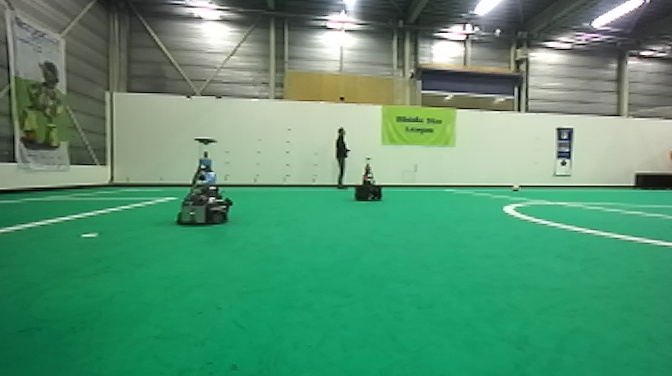ball: (509, 181, 523, 194)
human: (333, 124, 354, 188)
robot: (173, 134, 234, 228), (353, 154, 385, 204)
